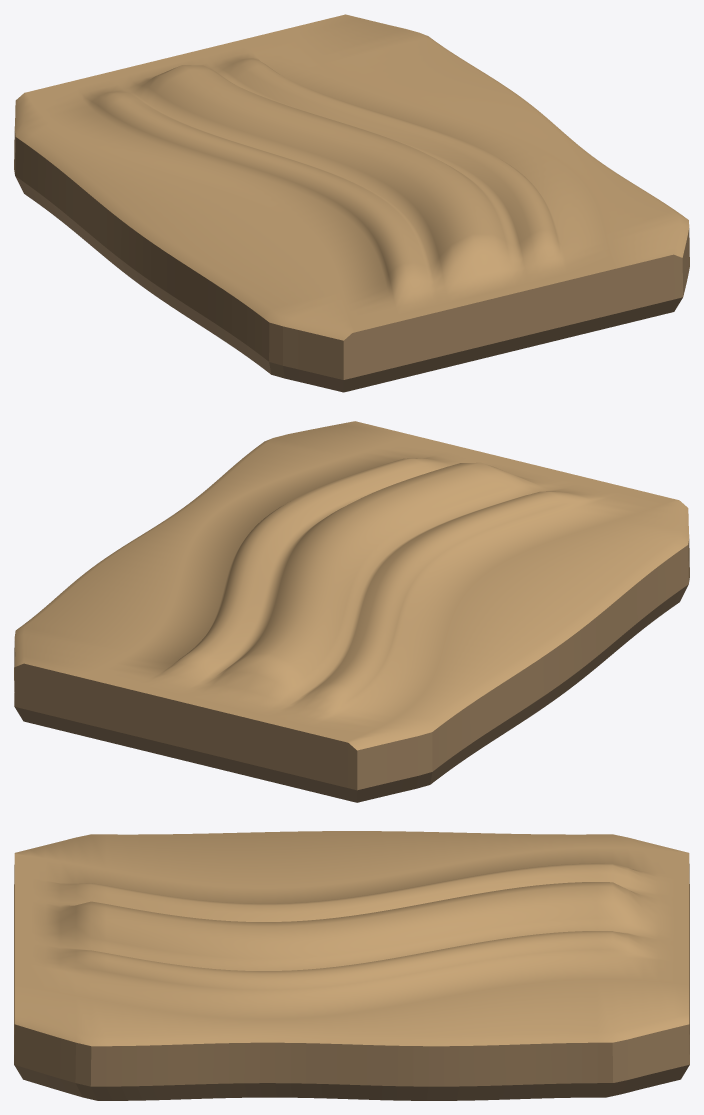
File: curvolithus-trilobed-trail.glb
3 renders of one model, top to bottom at view 1: azimuth 30°, elevation 25°; view 2: azimuth 150°, elevation 25°; view 3: azimuth 270°, elevation 25°, orthographic. The views are drawn at different scales.
Parts seen in each view (by area): view 1: integral-trilobed-relief-and-slab; view 2: integral-trilobed-relief-and-slab; view 3: integral-trilobed-relief-and-slab.
Boxes of the visible parts, left/top/right/bottom form: integral-trilobed-relief-and-slab: left=14, top=14, right=689, bottom=392; integral-trilobed-relief-and-slab: left=14, top=421, right=689, bottom=802; integral-trilobed-relief-and-slab: left=14, top=831, right=689, bottom=1100.
Size of the model in its own units: 0.24 by 0.047 by 0.32.
